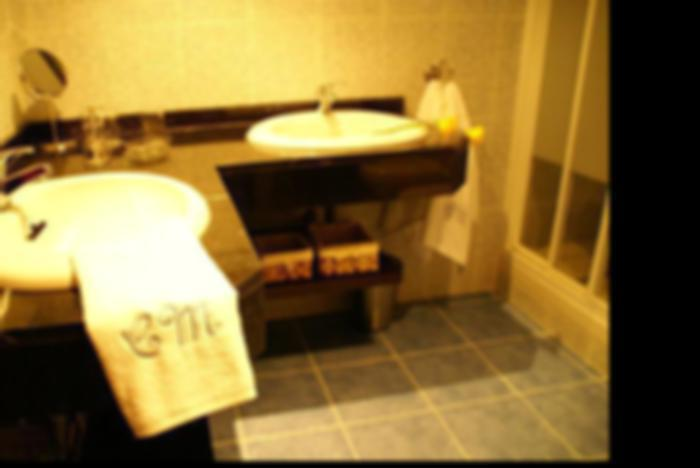Bote de Basura: (352, 260, 402, 339)
Ducha: (527, 0, 608, 365)
Lavamanos: (0, 136, 215, 296), (230, 78, 452, 158)
